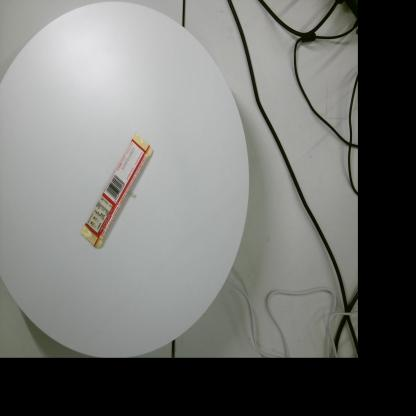Chocolate: (80, 132, 154, 249)
